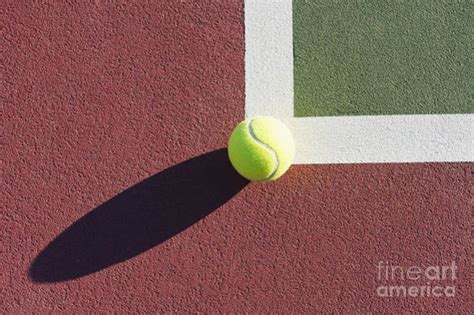tennis_ball: (228, 116, 294, 181)
